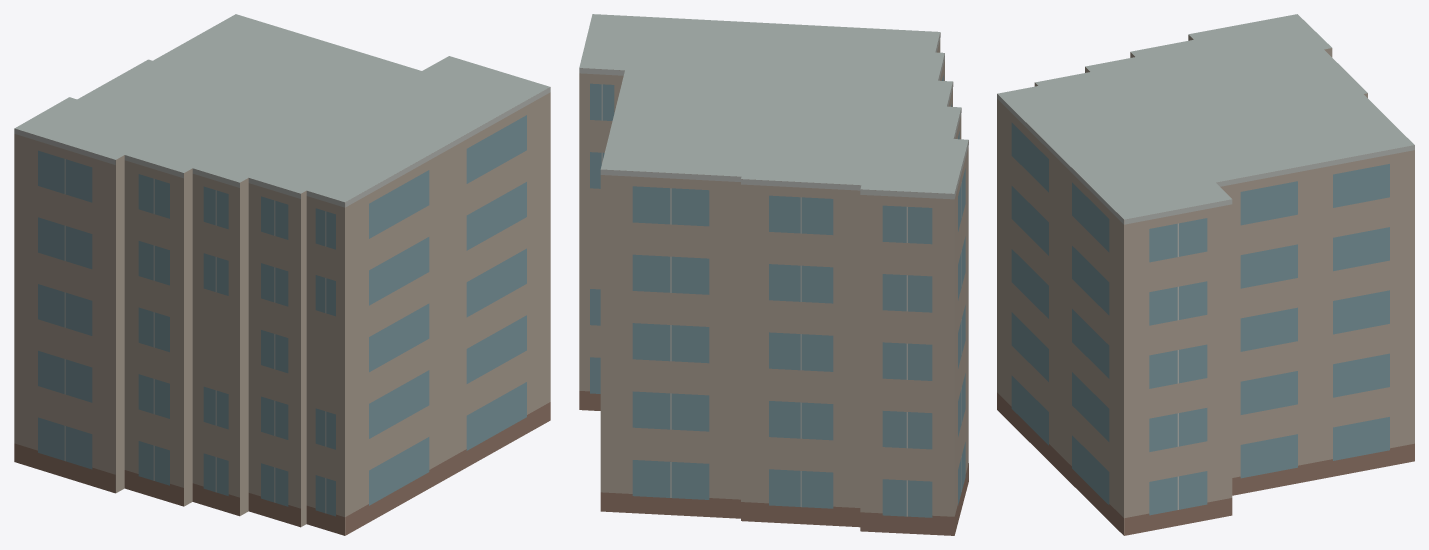
File: survey-upis-32754303.glb
The picture shows the model from 3 angles, left to right: view 1: azimuth 30°, elevation 25°; view 2: azimuth 150°, elevation 25°; view 3: azimuth 270°, elevation 25°; orthographic projection. The views are drawn at different scales.
Visible parts, largest first — view 1: survey-upis-32754303.tmp; view 2: survey-upis-32754303.tmp; view 3: survey-upis-32754303.tmp.
Boxes of the visible parts, <box> form: survey-upis-32754303.tmp: <box>14,14,550,535</box>; survey-upis-32754303.tmp: <box>579,14,968,535</box>; survey-upis-32754303.tmp: <box>997,14,1414,535</box>.
Size of the model in its own units: 21.28 by 15.25 by 18.27.
